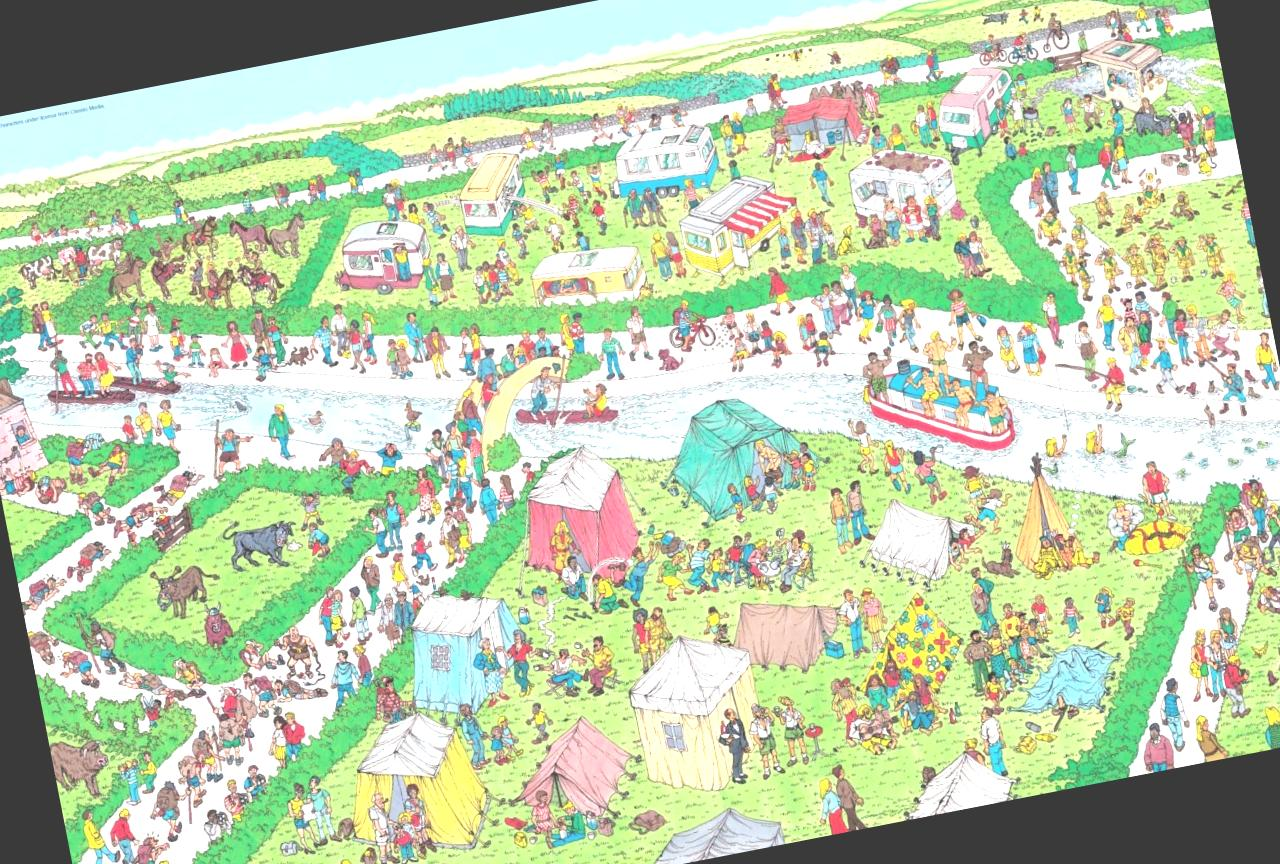waldo: (380, 674, 396, 694)
